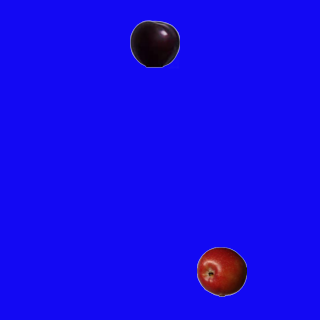Apple Braeburn: (196, 246, 246, 296)
Cherry Wax Black: (129, 18, 179, 68)
